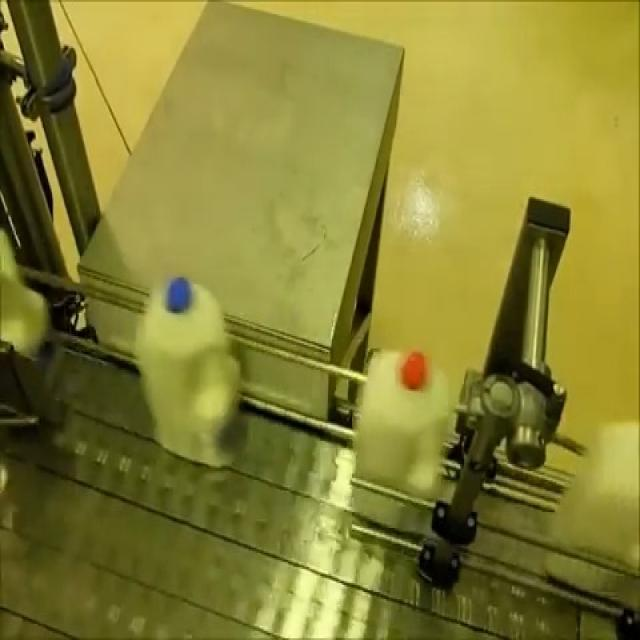milk: (123, 264, 273, 458), (349, 331, 453, 537)
